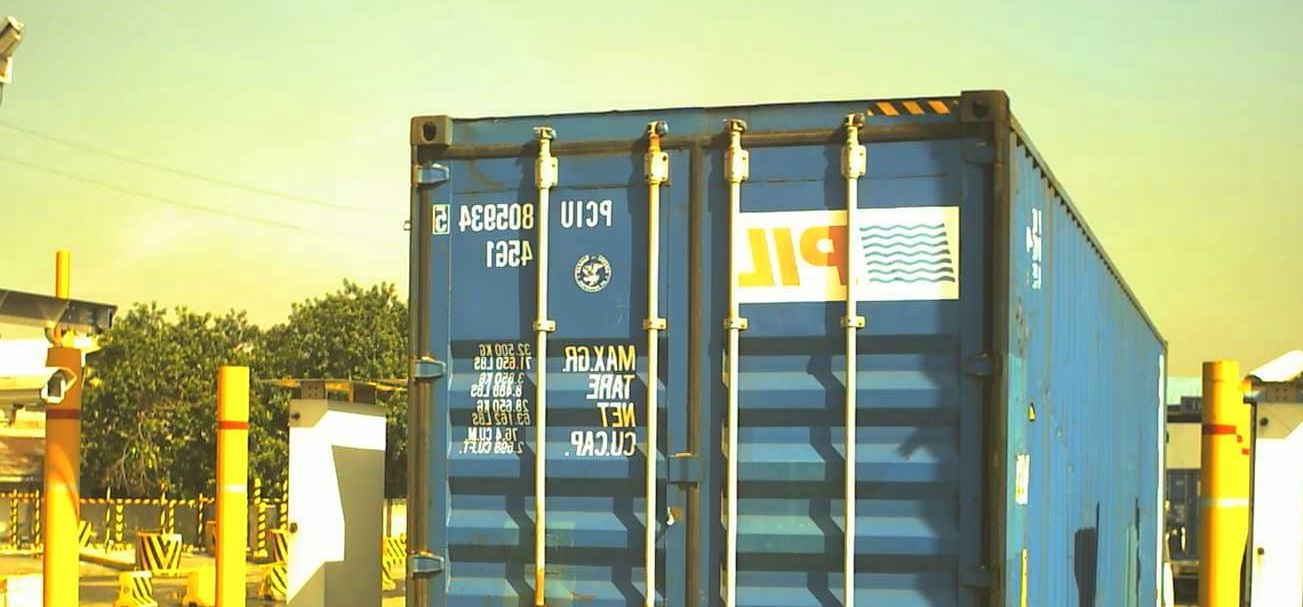container_door: (410, 94, 1005, 607)
